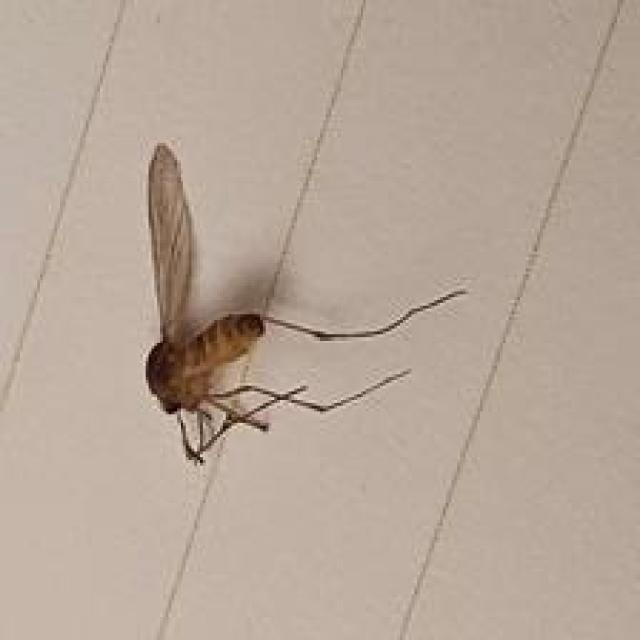Culex: (142, 140, 467, 466)
